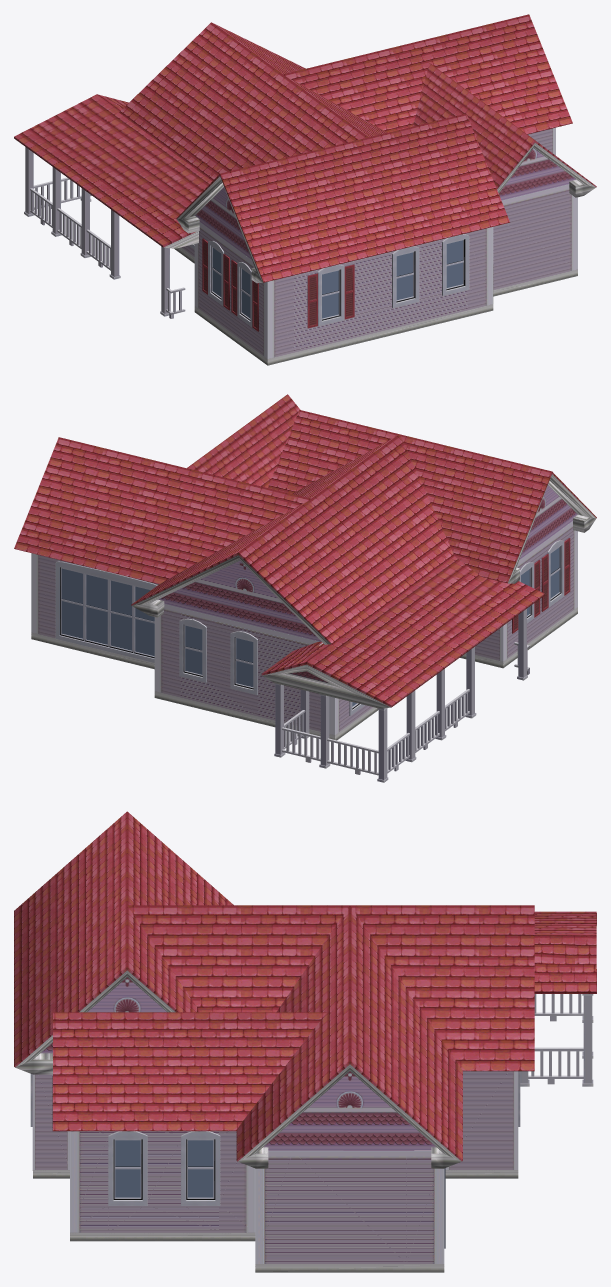
File: house_0130007.FBX
The picture shows the model from 3 angles, top to bottom: view 1: azimuth 30°, elevation 25°; view 2: azimuth 150°, elevation 25°; view 3: azimuth 270°, elevation 25°; orthographic projection. The views are drawn at different scales.
Visible parts, largest first — view 1: house_0130007_roof_100_00, house_0130007_outwall_100_03, house_0130007_outwall_100_05, house_0130007_floor_102_00, house_0130007_floor_100_00, house_0130007_outwall_100_02, house_0130007_floor_103_00, house_0130007_tcx_100_03, house_0130007_tcx_100_05, house_0130007_tcx_100_02; view 2: house_0130007_roof_100_00, house_0130007_outwall_100_11, house_0130007_floor_100_00, house_0130007_floor_105_00, house_0130007_floor_101_00, house_0130007_outwall_100_02, house_0130007_floor_102_00, house_0130007_outwall_100_09, house_0130007_tcx_100_11, house_0130007_tcx_100_09, house_0130007_outwall_100_01, house_0130007_outwall_100_00; view 3: house_0130007_roof_100_00, house_0130007_outwall_100_08, house_0130007_outwall_100_06, house_0130007_floor_104_00, house_0130007_outwall_100_10, house_0130007_floor_100_00, house_0130007_outwall_100_04, house_0130007_tcx_100_06, house_0130007_tcx_100_08, house_0130007_tcx_100_10.
Part boxes in pixels (x1,y1,x2,y2): house_0130007_roof_100_00: (14,14,596,283); house_0130007_outwall_100_03: (267,227,493,358); house_0130007_outwall_100_05: (493,184,577,289); house_0130007_floor_102_00: (202,238,354,331); house_0130007_floor_100_00: (24,147,185,318); house_0130007_outwall_100_02: (194,222,267,358); house_0130007_floor_103_00: (392,234,469,307); house_0130007_tcx_100_03: (267,304,493,365); house_0130007_tcx_100_05: (493,269,577,296); house_0130007_tcx_100_02: (194,306,267,365); house_0130007_roof_100_00: (14,394,596,708); house_0130007_outwall_100_11: (154,604,334,734); house_0130007_floor_100_00: (274,608,529,782); house_0130007_floor_105_00: (55,561,157,662); house_0130007_floor_101_00: (179,618,364,715); house_0130007_outwall_100_02: (503,521,577,661); house_0130007_floor_102_00: (512,538,570,633); house_0130007_outwall_100_09: (31,553,158,638); house_0130007_tcx_100_11: (154,691,334,739); house_0130007_tcx_100_09: (31,632,154,669); house_0130007_outwall_100_01: (475,626,503,661); house_0130007_outwall_100_00: (335,698,372,734); house_0130007_roof_100_00: (14,811,596,1168); house_0130007_outwall_100_08: (255,1150,444,1263); house_0130007_outwall_100_06: (70,1131,255,1232); house_0130007_floor_104_00: (108,1131,220,1205); house_0130007_outwall_100_10: (445,1071,518,1169); house_0130007_floor_100_00: (520,994,593,1086); house_0130007_outwall_100_04: (32,1074,69,1169); house_0130007_tcx_100_06: (70,1232,255,1241); house_0130007_tcx_100_08: (255,1264,444,1272); house_0130007_tcx_100_10: (445,1170,518,1178).
Size of the model in its own units: 1356 by 518 by 1258.
Materials: 43 (43 with a texture image).
